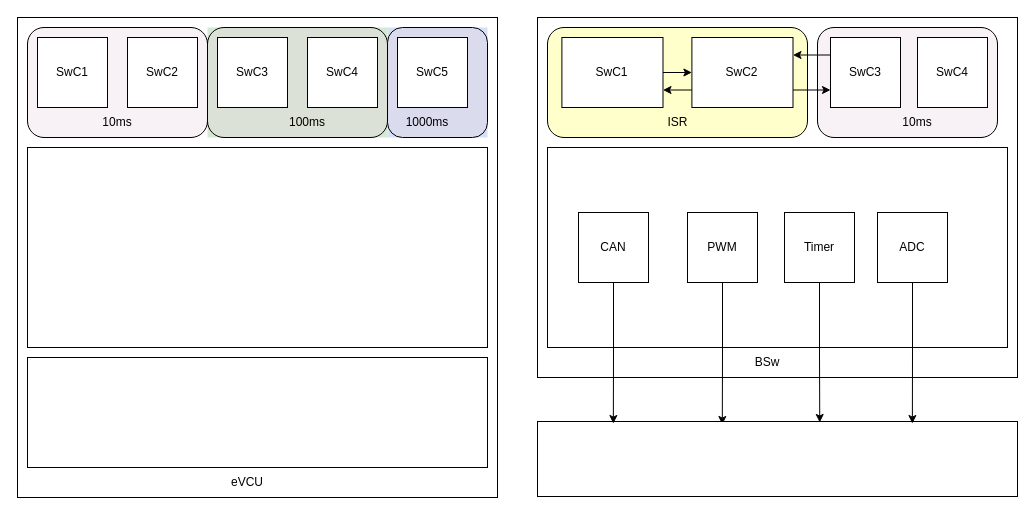
Some shapes in this 1035 by 515 pixel diagram are drawn without their labels. Here are the shapes that lost their labels. From the top down, the centre of each, then its label:
At point 257,247: "Middleware".
At point 257,412: "MCL".
At point 777,458: "Hw Peripheral".
